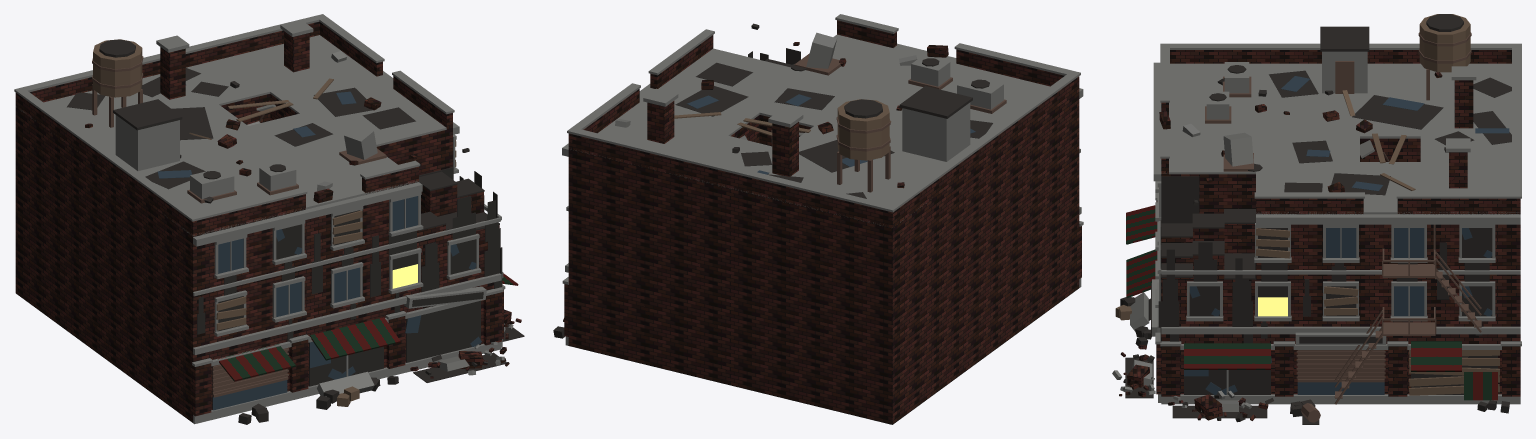
File: building_a.glb
The picture shows the model from 3 angles, left to right: view 1: azimuth 30°, elevation 25°; view 2: azimuth 150°, elevation 25°; view 3: azimuth 270°, elevation 25°; orthographic projection. The views are drawn at different scales.
Parts seen in each view (by area): view 1: building_brick, building_concrete, building_soot, building_glass, building_wood, building_awning, building_rust, building_warm; view 2: building_brick, building_concrete, building_soot, building_wood, building_rust, building_glass; view 3: building_concrete, building_brick, building_soot, building_rust, building_awning, building_wood, building_glass, building_warm.
Boxes of the visible parts, box(x1,y1,x2,y2) form: building_brick: box(15, 21, 521, 422); building_concrete: box(14, 14, 513, 424); building_soot: box(67, 39, 524, 424); building_glass: box(157, 84, 481, 410); building_wood: box(93, 39, 456, 406); building_awning: box(218, 273, 518, 381); building_rust: box(92, 56, 386, 397); building_warm: box(392, 264, 417, 288); building_brick: box(564, 20, 1081, 424); building_concrete: box(562, 14, 1083, 345); building_soot: box(553, 23, 992, 338); building_wood: box(674, 99, 891, 160); building_rust: box(771, 53, 1006, 192); building_glass: box(687, 94, 975, 174); building_concrete: box(1112, 43, 1521, 411); building_brick: box(1119, 50, 1520, 420); building_soot: box(1120, 14, 1511, 424); building_rust: box(1205, 32, 1481, 422); building_awning: box(1126, 205, 1497, 400); building_wood: box(1115, 14, 1499, 395); building_glass: box(1184, 76, 1509, 394); building_warm: box(1258, 297, 1287, 316).
Size of the model in its own units: 21.81 by 15.33 by 21.66.
Materials: 8 (2 with a texture image).
